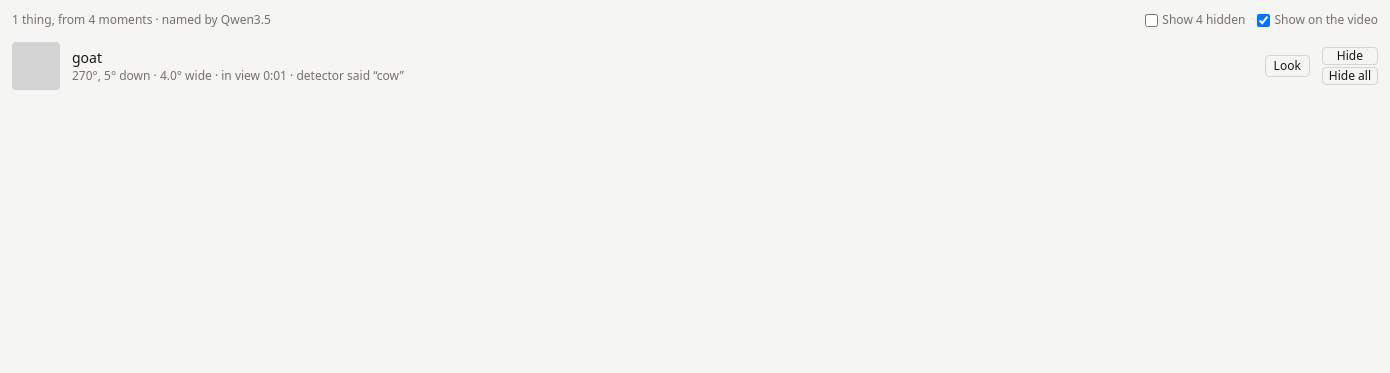
Test case: ObjectsCard: hiding things › leaves out what is hidden and says how many are, with a switch to list them all
Expected: the number of list items is 1, top-left (12, 36), bottom-right (1378, 96)
Expected: the text "1 thing, from 4 moments · named by Qwen3.5" is shown, top-left (12, 12), bottom-right (271, 28)
Step 1. Click the checkbox labelled "Show 4 hidden" → (1152, 20), box top-left (1145, 14), bottom-right (1158, 26)
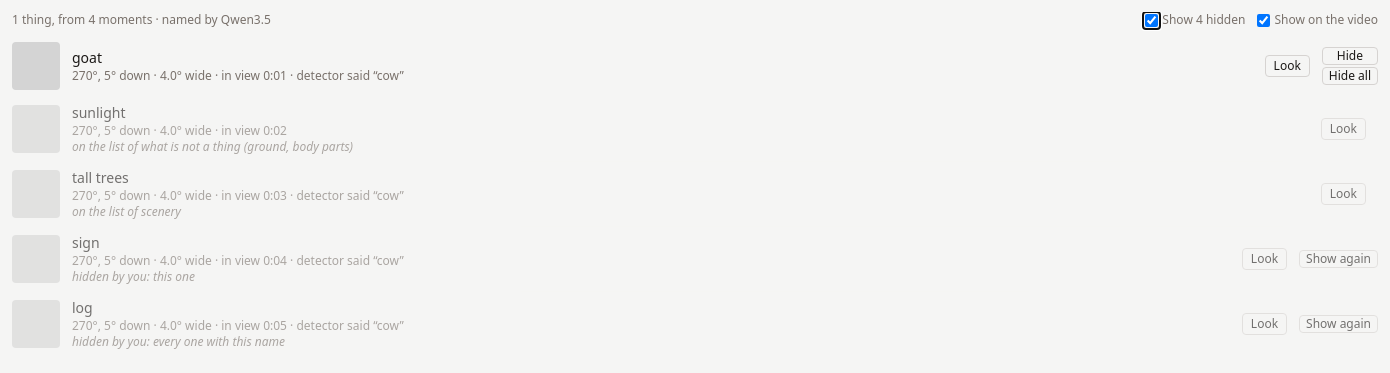
Expected: the text "1 thing, from 4 moments · named by Qwen3.5" is shown, top-left (12, 12), bottom-right (271, 28)
Result: the number of list items is 5 at top-left (12, 36), bottom-right (1378, 97); top-left (12, 97), bottom-right (1378, 162); top-left (12, 162), bottom-right (1378, 227); top-left (12, 227), bottom-right (1378, 292); top-left (12, 292), bottom-right (1378, 356)
Step 2. Click the checkbox labelled "Show 4 hidden" → (1152, 20), box top-left (1145, 14), bottom-right (1158, 26)
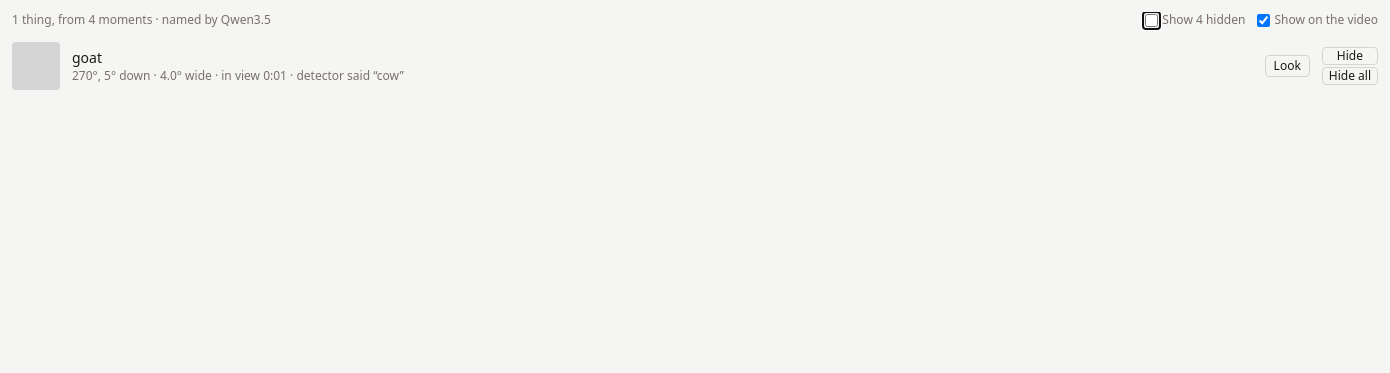
Result: the number of list items is 1 at top-left (12, 36), bottom-right (1378, 96)
